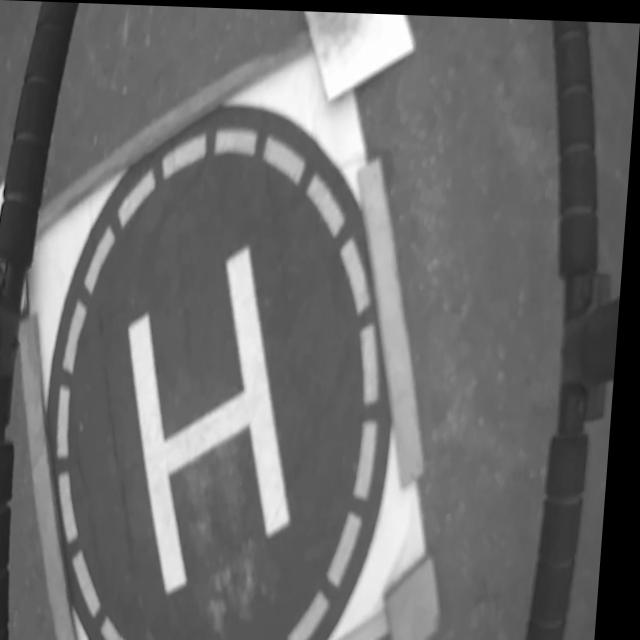Helipad: (132, 243, 299, 595)
